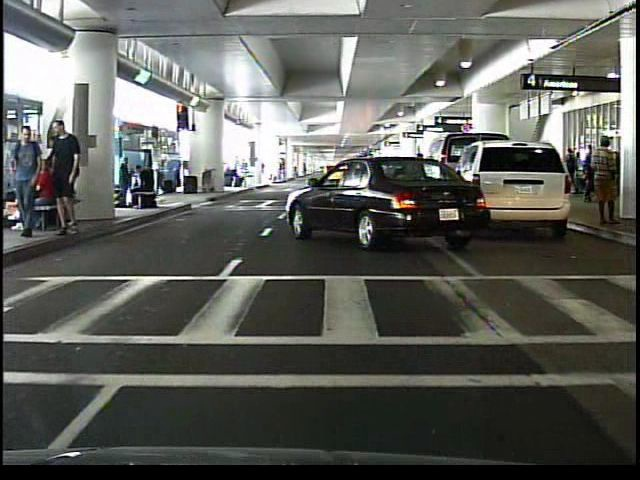person: (589, 133, 621, 230), (124, 162, 157, 212), (562, 144, 580, 178)
